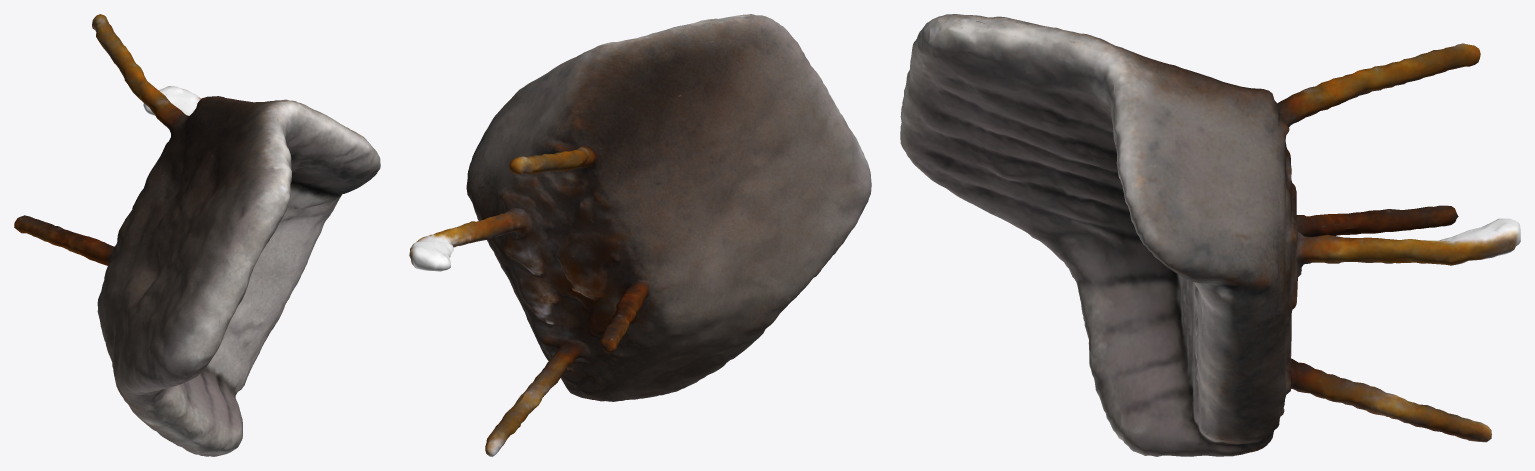
The model's file is chair_before.gltf.
The picture shows the model from 3 angles, left to right: view 1: azimuth 30°, elevation 25°; view 2: azimuth 150°, elevation 25°; view 3: azimuth 270°, elevation 25°; orthographic projection. The views are drawn at different scales.
Parts seen in each view (by area): view 1: model; view 2: model; view 3: model.
Boxes of the visible parts, x1,y1,x2,y2 form: model: (14,14,380,456); model: (409,14,871,456); model: (900,14,1520,456).
Size of the model in its own units: 0.6718 by 0.7314 by 0.9621.
Materials: 1 (1 with a texture image).
